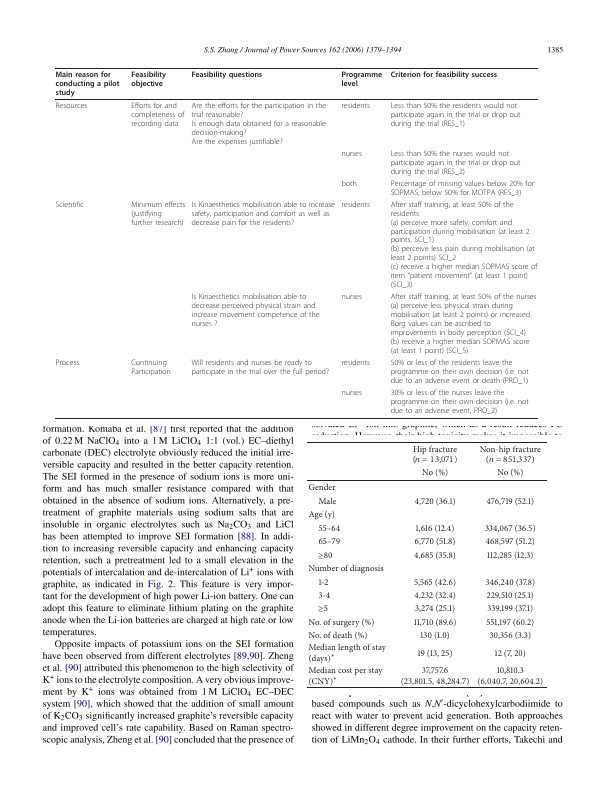borderless: (54, 66, 538, 418), (305, 440, 547, 687)
cell: (390, 200, 538, 290), (390, 292, 537, 356), (190, 101, 327, 146), (190, 292, 320, 329), (190, 200, 336, 227), (390, 358, 530, 386), (390, 388, 530, 416), (390, 101, 521, 129), (390, 149, 521, 176), (190, 358, 330, 377), (390, 179, 535, 197), (307, 642, 387, 664), (55, 70, 120, 97), (307, 665, 383, 687), (130, 101, 185, 129), (400, 665, 470, 687), (130, 200, 186, 227), (476, 665, 544, 687), (479, 444, 542, 467), (412, 444, 458, 467), (390, 70, 498, 79), (307, 563, 385, 574), (130, 358, 172, 377), (340, 70, 383, 88), (307, 617, 375, 627), (307, 630, 368, 641), (130, 70, 167, 88), (190, 70, 263, 79), (484, 523, 537, 534), (484, 577, 536, 588), (485, 496, 535, 507), (486, 590, 535, 601), (485, 537, 536, 547), (485, 617, 535, 627), (413, 496, 457, 507), (413, 577, 457, 588), (413, 590, 457, 601), (488, 630, 532, 641), (486, 550, 534, 560), (486, 604, 534, 614), (415, 523, 455, 534), (413, 550, 457, 560), (413, 617, 457, 627), (414, 537, 456, 547), (414, 604, 456, 614), (416, 648, 454, 658), (419, 630, 451, 641), (55, 101, 88, 111), (307, 482, 337, 493), (494, 648, 527, 658), (307, 509, 336, 520), (340, 101, 371, 111), (340, 358, 371, 368), (421, 468, 449, 478), (496, 468, 524, 478), (54, 200, 85, 209), (340, 200, 371, 209), (317, 523, 341, 534), (54, 358, 80, 368), (317, 537, 341, 547), (317, 547, 333, 562), (340, 292, 363, 302), (340, 388, 363, 398), (317, 496, 337, 507), (340, 149, 363, 158), (317, 600, 329, 616), (340, 179, 358, 188), (317, 590, 331, 601), (317, 577, 329, 588)
